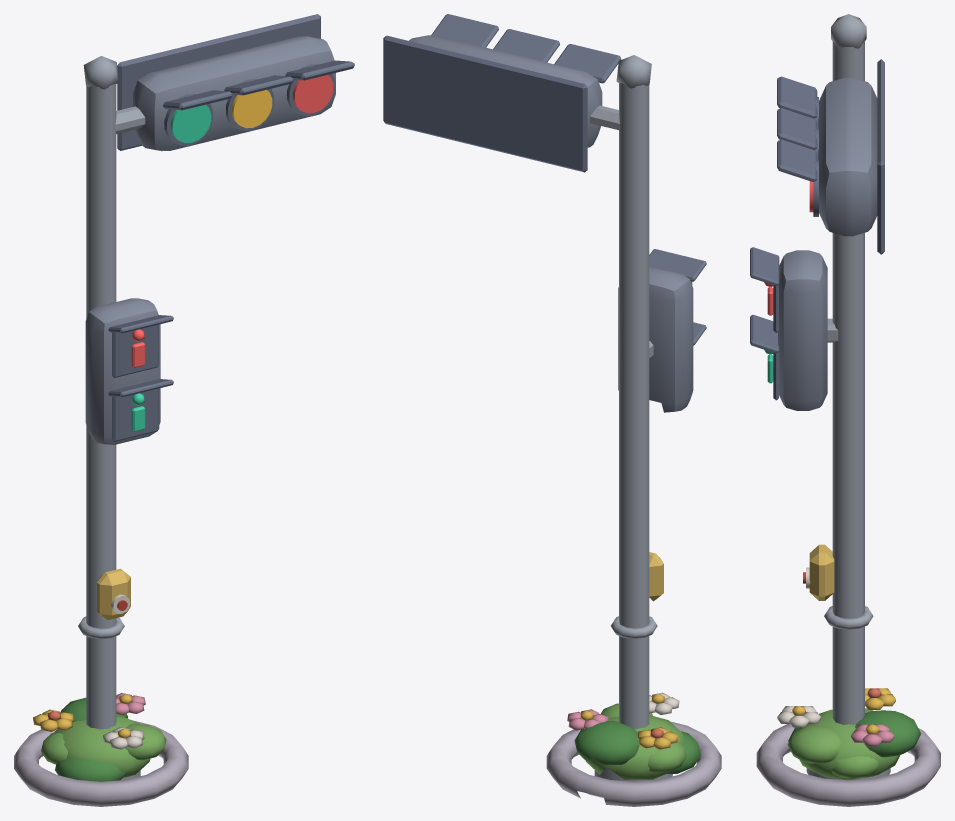
The model's file is ac_signal.glb.
3 views of the same model, side by side, from view 1: azimuth 30°, elevation 25°; view 2: azimuth 150°, elevation 25°; view 3: azimuth 270°, elevation 25° (orthographic). The views are drawn at different scales.
Parts seen in each view (by area): view 1: cyl; view 2: cyl; view 3: cyl.
Boxes of the visible parts, x1=… form: cyl: x1=14, y1=14, x2=354, y2=806; cyl: x1=383, y1=14, x2=721, y2=806; cyl: x1=750, y1=14, x2=940, y2=806.
Size of the model in its own units: 1.99 by 4.38 by 0.9993.
